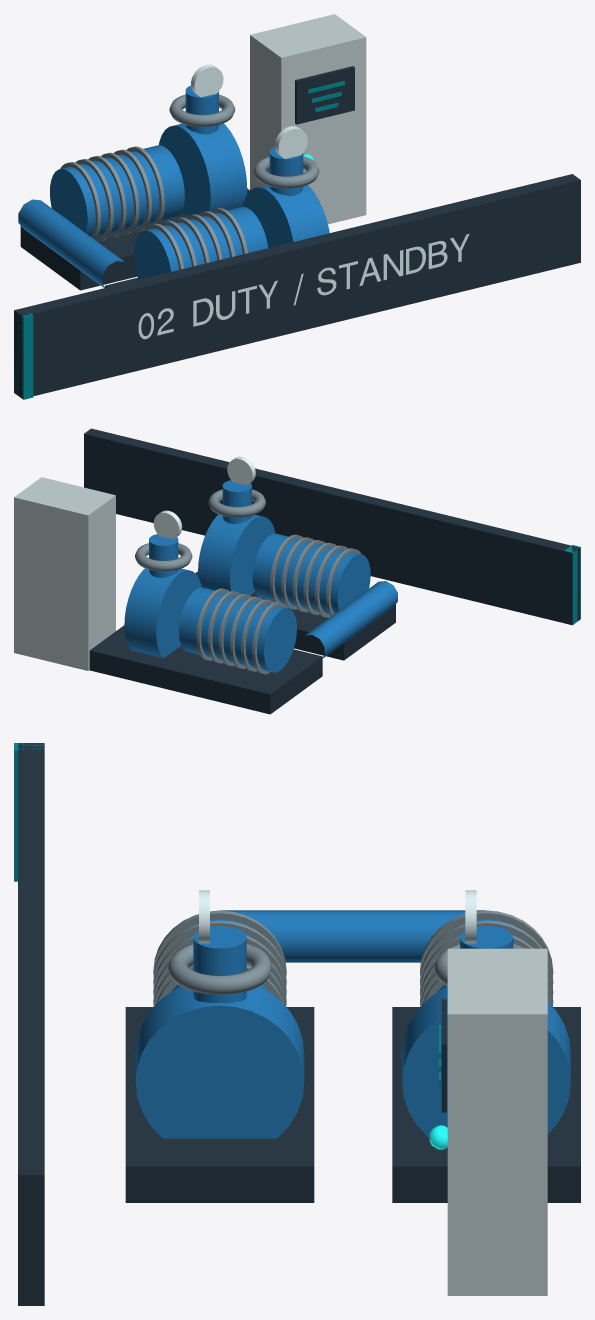
Rendered from cooling-pumps.9ef072f7fb40.glb.
3 renders of one model, top to bottom at view 1: azimuth 30°, elevation 25°; view 2: azimuth 150°, elevation 25°; view 3: azimuth 270°, elevation 25°, orthographic. The views are drawn at different scales.
Visible parts, largest first — view 1: structure_dark_00035, structure_blue_00036, structure_cream_00039, structure_steel_00037, structure_white_00038, structure_teal_00040; view 2: structure_dark_00035, structure_blue_00036, structure_cream_00039, structure_steel_00037, structure_white_00038, structure_teal_00040; view 3: structure_dark_00035, structure_blue_00036, structure_cream_00039, structure_steel_00037, structure_white_00038, structure_teal_00040.
Boxes of the visible parts, bbox=[...] form: structure_dark_00035: bbox=[14, 66, 580, 398]; structure_blue_00036: bbox=[18, 85, 329, 287]; structure_cream_00039: bbox=[250, 14, 366, 224]; structure_steel_00037: bbox=[60, 94, 319, 269]; structure_white_00038: bbox=[138, 64, 469, 339]; structure_teal_00040: bbox=[14, 81, 344, 399]; structure_dark_00035: bbox=[84, 428, 579, 714]; structure_blue_00036: bbox=[124, 480, 397, 672]; structure_cream_00039: bbox=[14, 477, 115, 670]; structure_steel_00037: bbox=[135, 489, 361, 674]; structure_white_00038: bbox=[153, 456, 255, 539]; structure_teal_00040: bbox=[564, 545, 580, 624]; structure_dark_00035: bbox=[18, 743, 580, 1305]; structure_blue_00036: bbox=[135, 910, 570, 1138]; structure_cream_00039: bbox=[447, 948, 547, 1295]; structure_steel_00037: bbox=[153, 910, 553, 1006]; structure_white_00038: bbox=[199, 890, 476, 943]; structure_teal_00040: bbox=[14, 743, 440, 1085].
Bounding box in the file's own units: 4.6 × 1.42 × 2.55.
